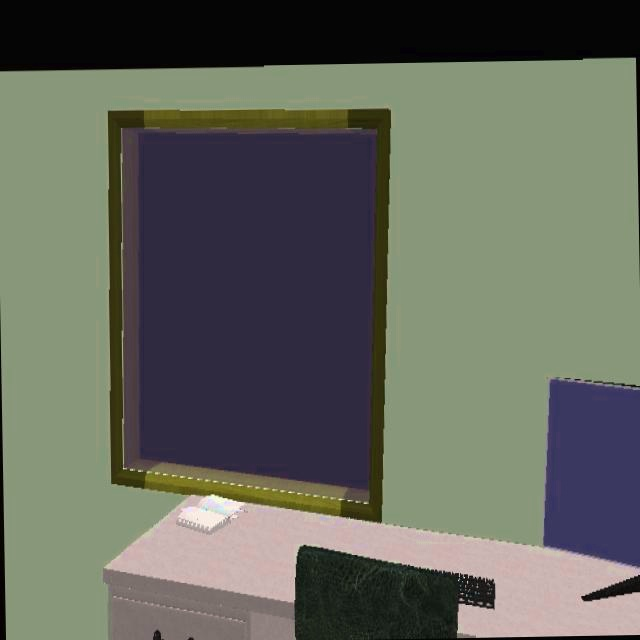book: (166, 497, 244, 535)
chair: (293, 547, 495, 639)
monitor: (544, 378, 640, 572)
table: (105, 509, 640, 640)
